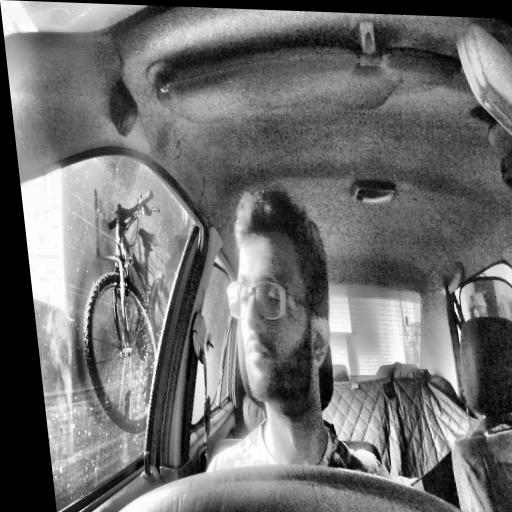drowsy: (216, 186, 345, 420)
